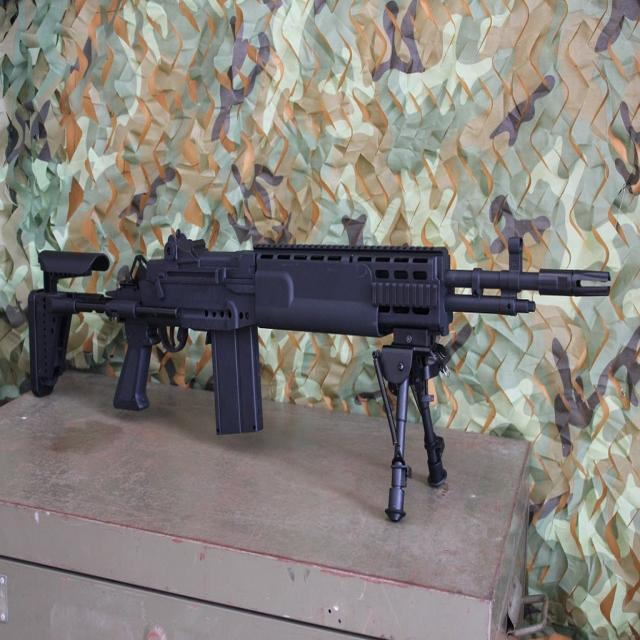Gun: (1, 206, 612, 508)
